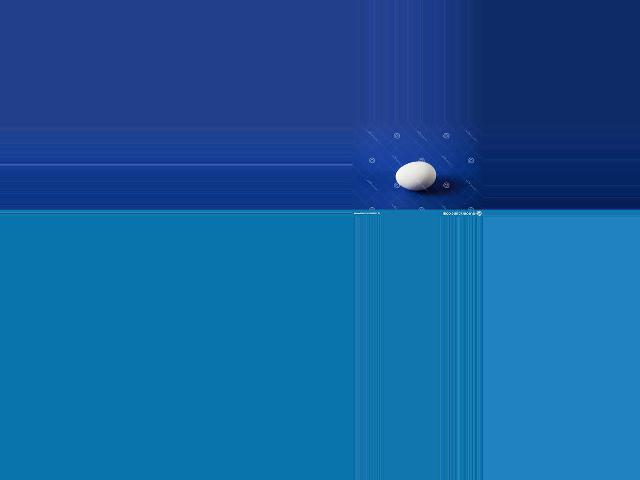egg: (394, 162, 435, 191)
